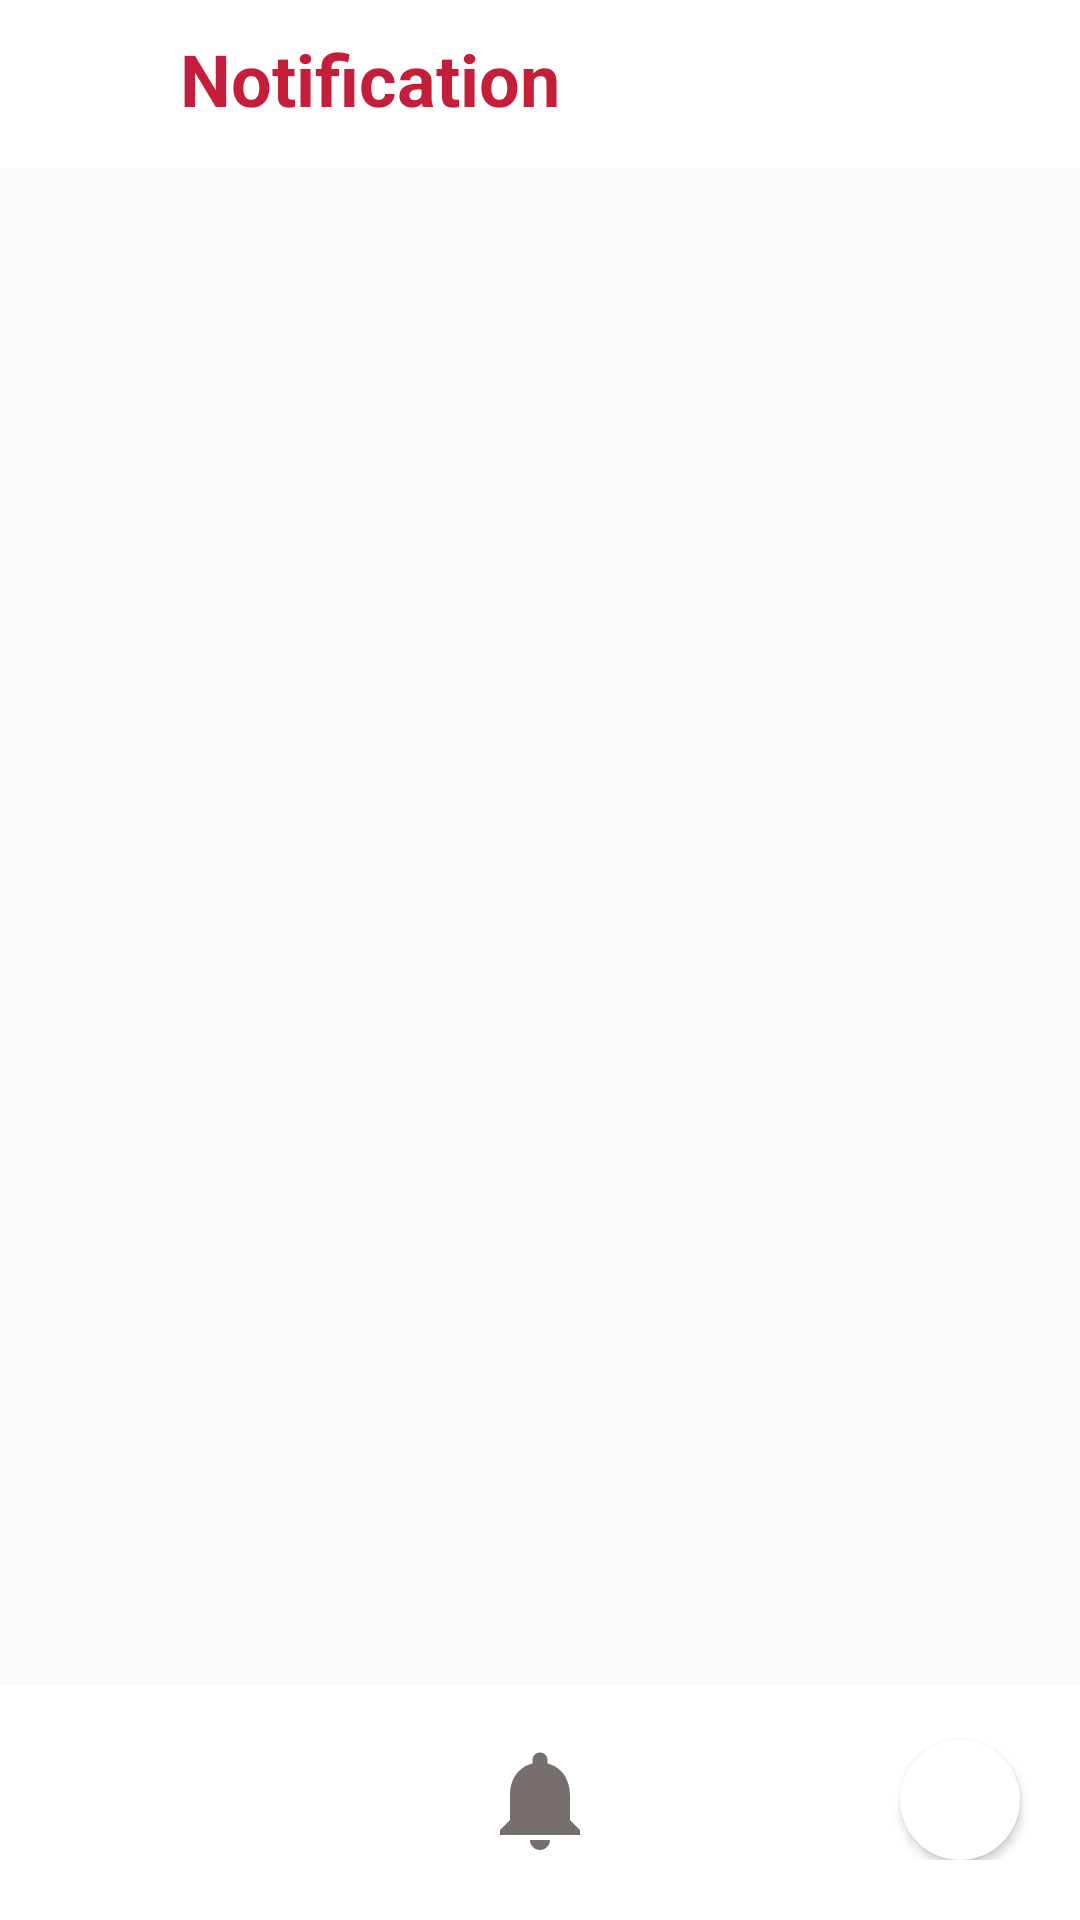

Icons on this 1080x1920 Android screen, each with its box as (x1,y1,x2,y2):
notification button: (500,1752,580,1850)
